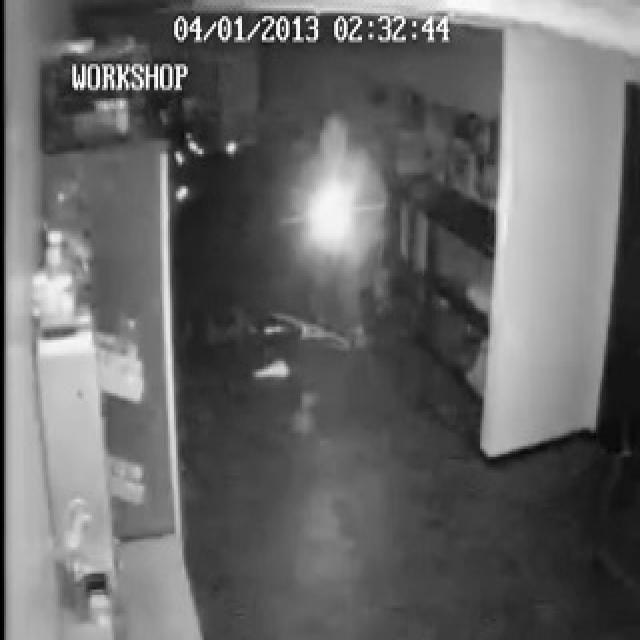thief: (318, 110, 367, 212)
